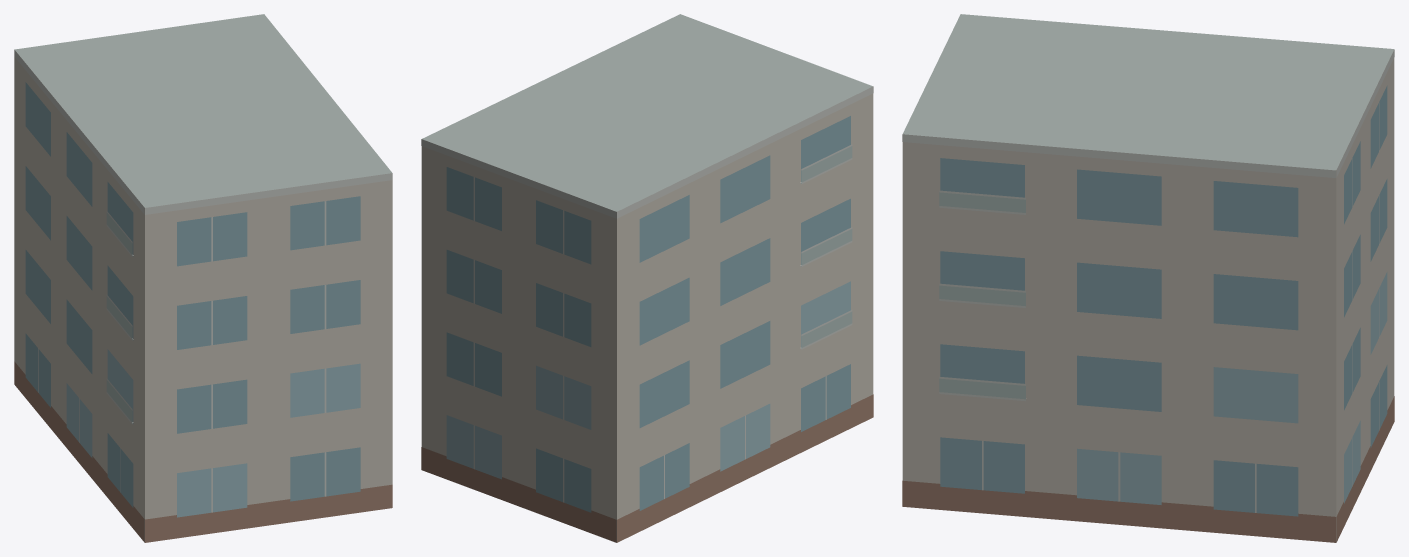
File: survey-upis-32881610.glb
The picture shows the model from 3 angles, left to right: view 1: azimuth 30°, elevation 25°; view 2: azimuth 150°, elevation 25°; view 3: azimuth 270°, elevation 25°; orthographic projection. The views are drawn at different scales.
Visible parts, largest first — view 1: survey-upis-32881610.tmp; view 2: survey-upis-32881610.tmp; view 3: survey-upis-32881610.tmp.
Boxes of the visible parts, <box> form: survey-upis-32881610.tmp: <box>14,14,392,542</box>; survey-upis-32881610.tmp: <box>421,14,873,542</box>; survey-upis-32881610.tmp: <box>902,14,1394,542</box>.
Bounding box in the file's own units: 10.55 × 11.7 × 14.02.
